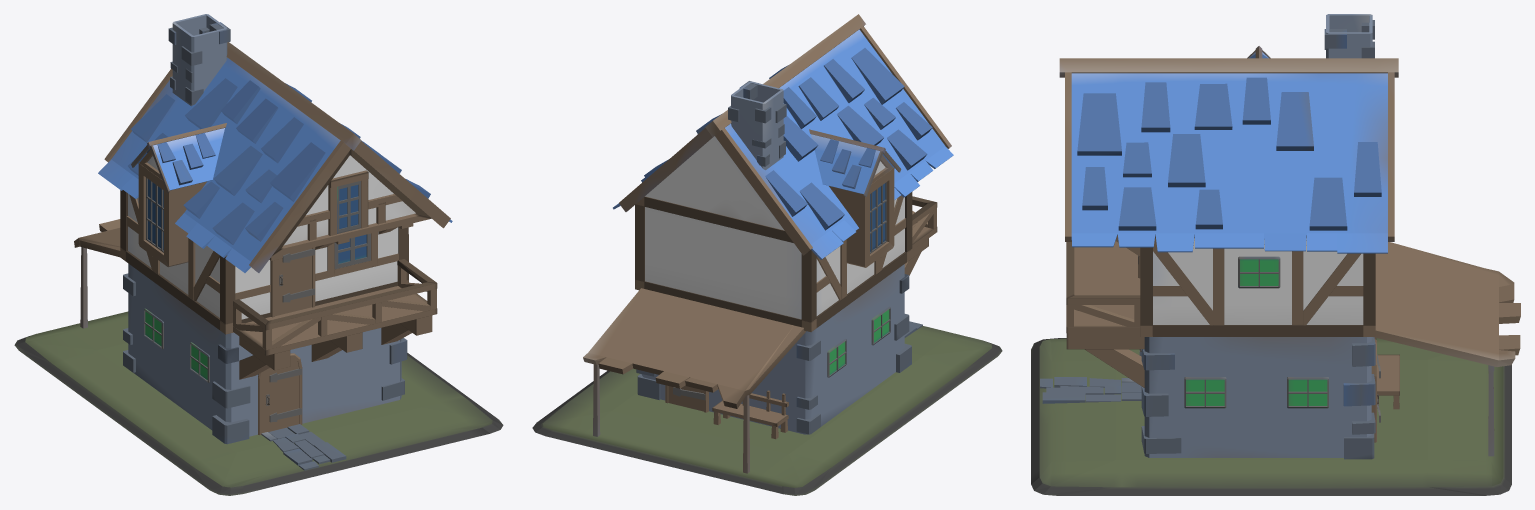
File: segmented_mesh_20260228_071018_mesh.glb
3 views of the same model, side by side, from view 1: azimuth 30°, elevation 25°; view 2: azimuth 150°, elevation 25°; view 3: azimuth 270°, elevation 25° (orthographic). The views are drawn at different scales.
Parts seen in each view (by area): view 1: world; view 2: world; view 3: world.
Part boxes in pixels (x1=…): world: x1=14, y1=14, x2=503, y2=495; world: x1=532, y1=14, x2=1002, y2=495; world: x1=1031, y1=14, x2=1520, y2=495.
Bounding box in the file's own units: 0.7625 × 0.856 × 1.
1 material, 1 textured.
